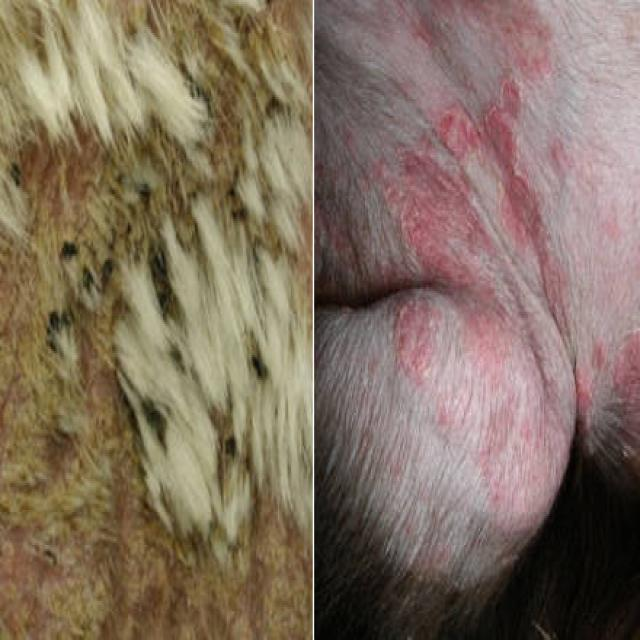viem da do vi khuan cho: (315, 0, 640, 640), (0, 0, 311, 640)
